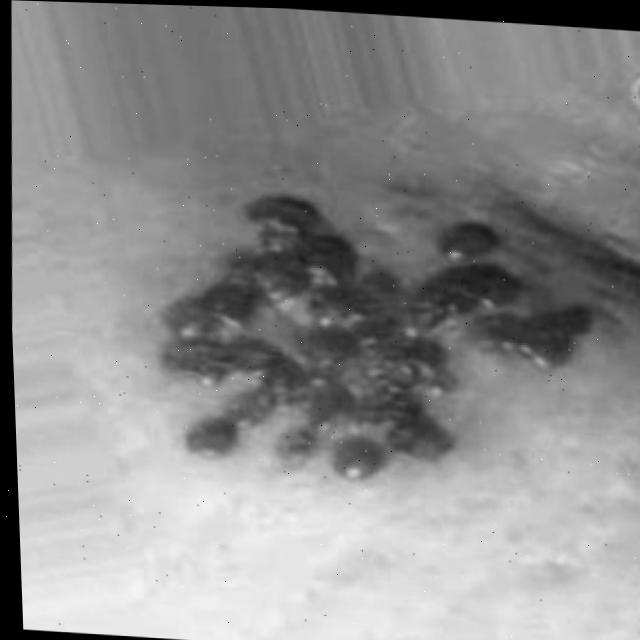Shingles: (145, 180, 612, 502)
